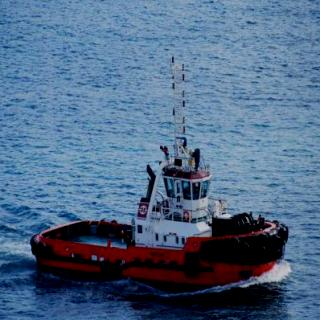Tug Boat: (31, 138, 294, 287)
